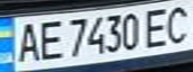0: (121, 9, 142, 52)
3: (103, 11, 124, 54)
4: (84, 12, 109, 56)
7: (63, 15, 87, 57)
A: (9, 19, 42, 64)
C: (160, 1, 193, 45)
E: (139, 4, 175, 50), (33, 17, 66, 62)
